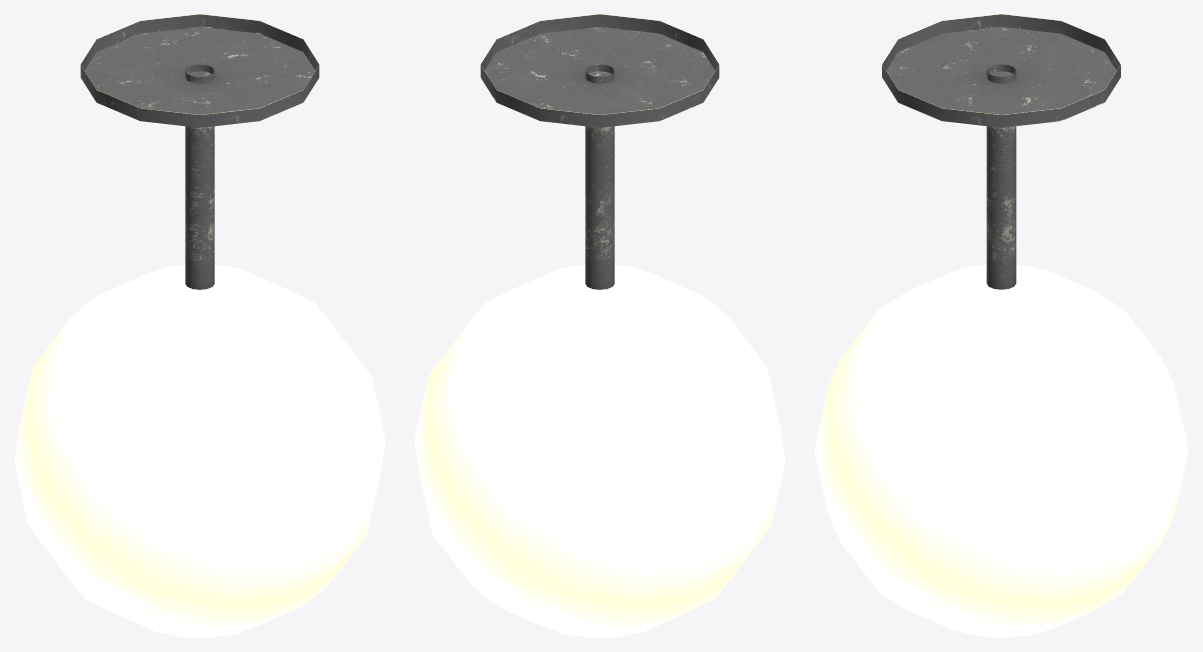
The model's file is Singlelight_AA.fbx.
The picture shows the model from 3 angles, left to right: view 1: azimuth 30°, elevation 25°; view 2: azimuth 150°, elevation 25°; view 3: azimuth 270°, elevation 25°; orthographic projection.
Visible parts, largest first — view 1: Singlelight_AA; view 2: Singlelight_AA; view 3: Singlelight_AA.
Boxes of the visible parts, left/top/right/bottom form: Singlelight_AA: left=14, top=14, right=385, bottom=637; Singlelight_AA: left=414, top=14, right=785, bottom=637; Singlelight_AA: left=814, top=14, right=1188, bottom=637.
Size of the model in its own units: 0.1893 by 0.1893 by 0.3099.
1 material, 1 textured.
